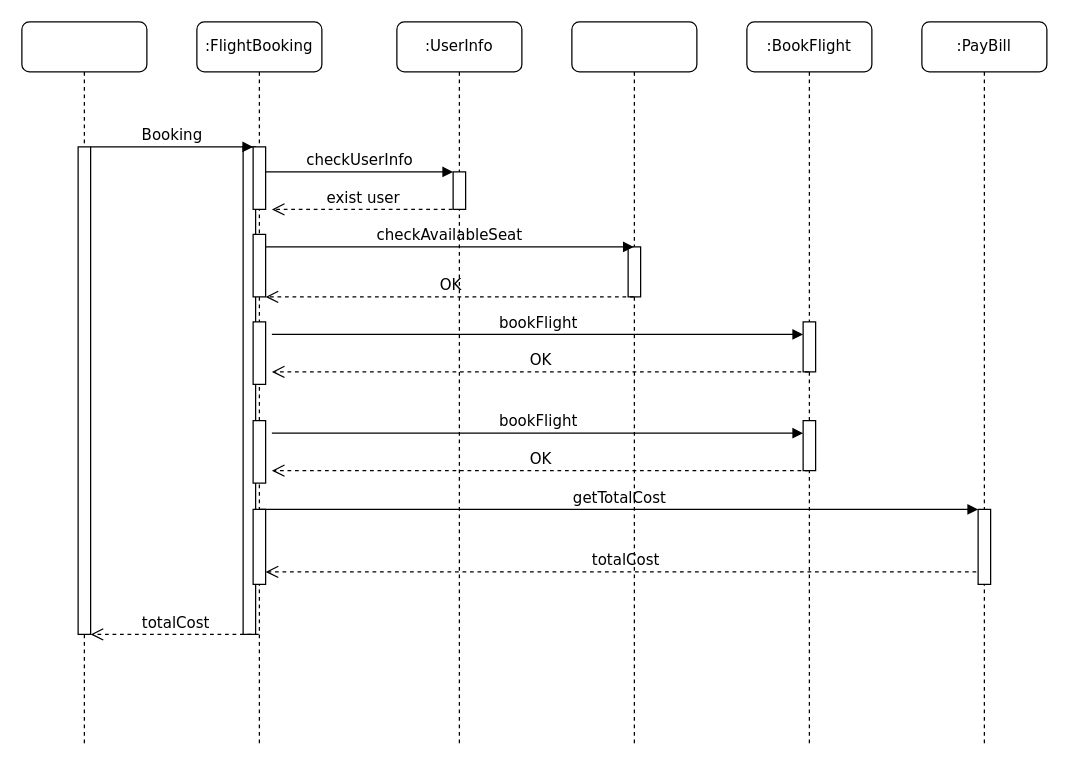
Some shapes in this 1069 by 769 pixel diagram are drawn without their labels. The shapes that lost their labels are listed below. From the top down, each one's box as (x1, y1, x2, y2) in pixels, then its label:
(21, 21, 147, 747): :Passenger
(571, 21, 697, 747): :Flight
